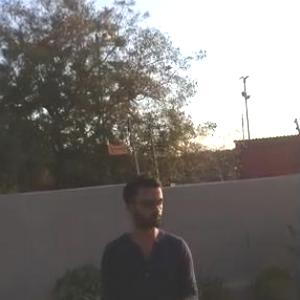follow: (94, 161, 212, 299)
